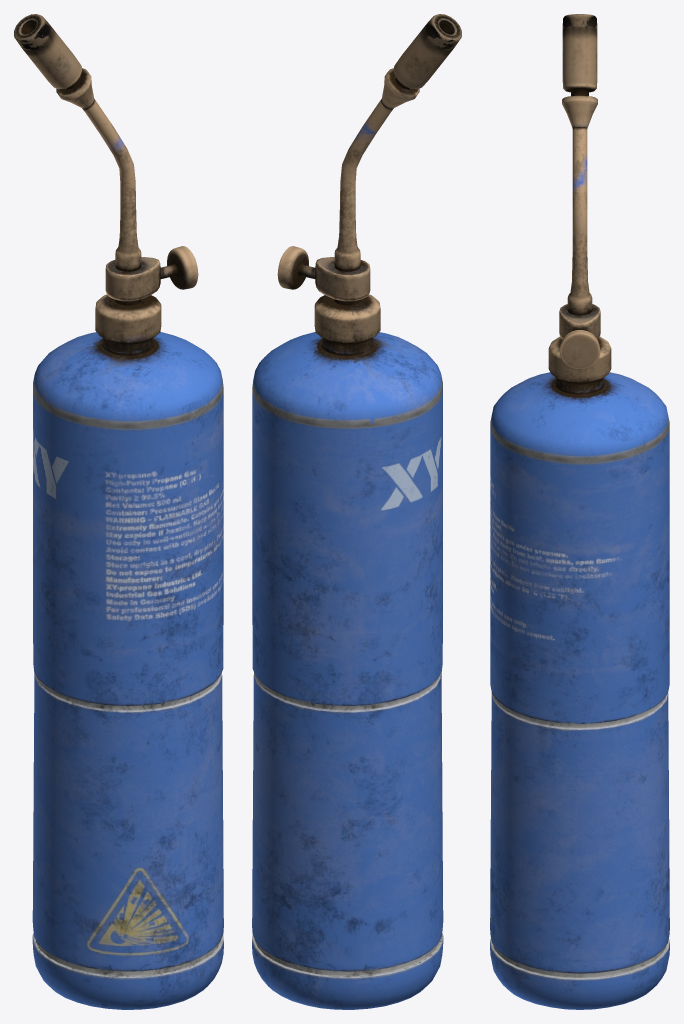
Rendered from propane_torch.glb.
The picture shows the model from 3 angles, left to right: view 1: azimuth 30°, elevation 25°; view 2: azimuth 150°, elevation 25°; view 3: azimuth 270°, elevation 25°; orthographic projection. The views are drawn at different scales.
Visible parts, largest first — view 1: propane_torch; view 2: propane_torch; view 3: propane_torch.
Boxes of the visible parts, box(x1,y1,x2,y2) form: propane_torch: box(14, 14, 223, 1009); propane_torch: box(252, 14, 461, 1009); propane_torch: box(490, 14, 669, 1009).
Size of the model in its own units: 0.068 by 0.3281 by 0.0579.
Materials: 1 (1 with a texture image).
